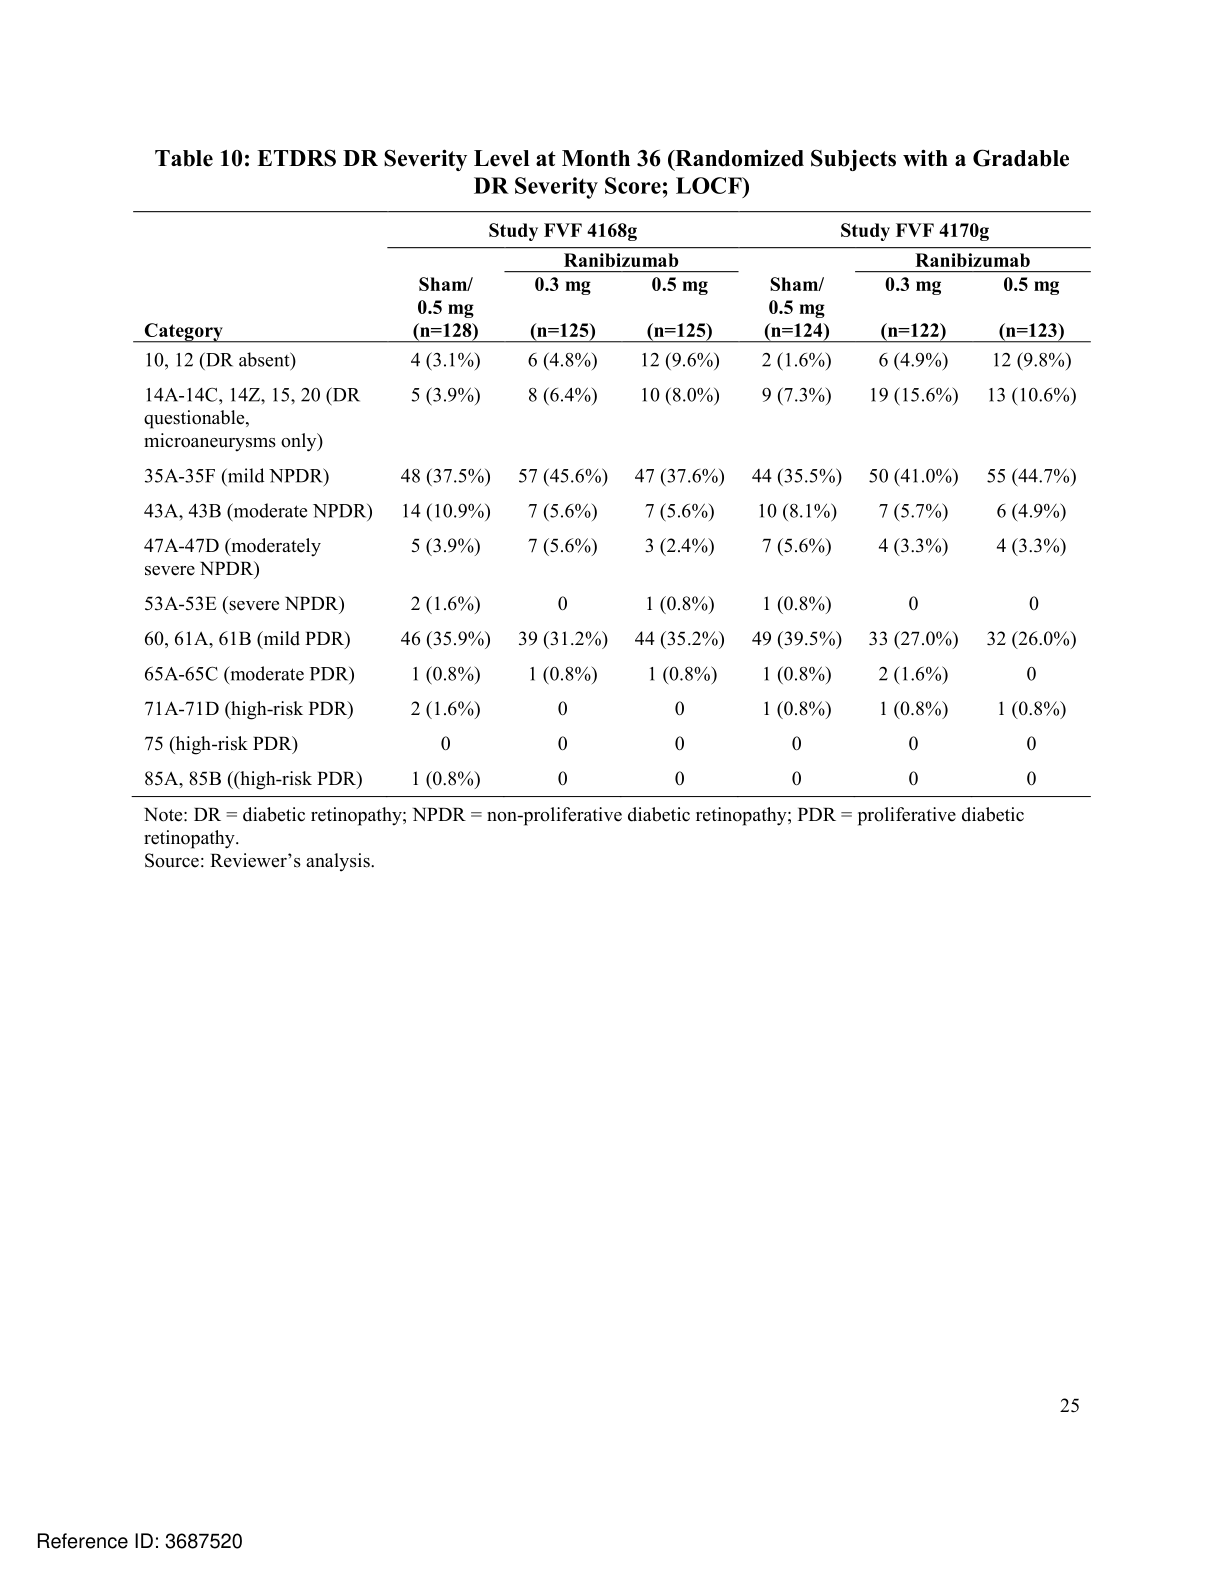partial_lined_merged_cells: (132, 208, 1093, 800)
